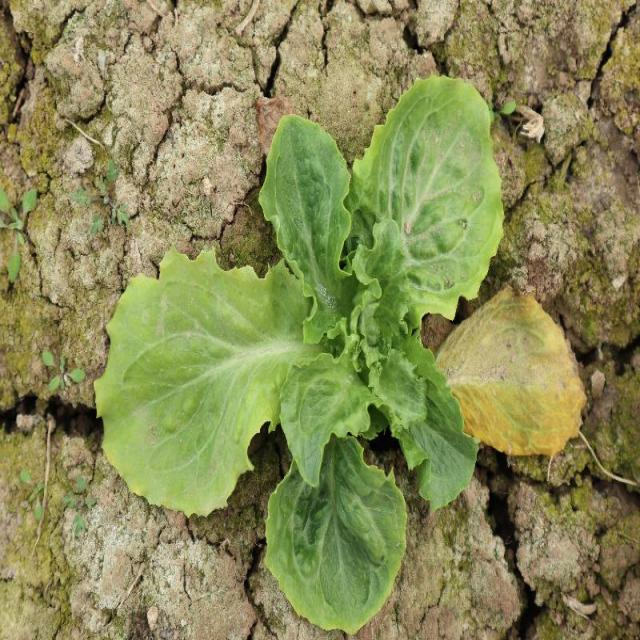crop: (96, 71, 505, 636)
